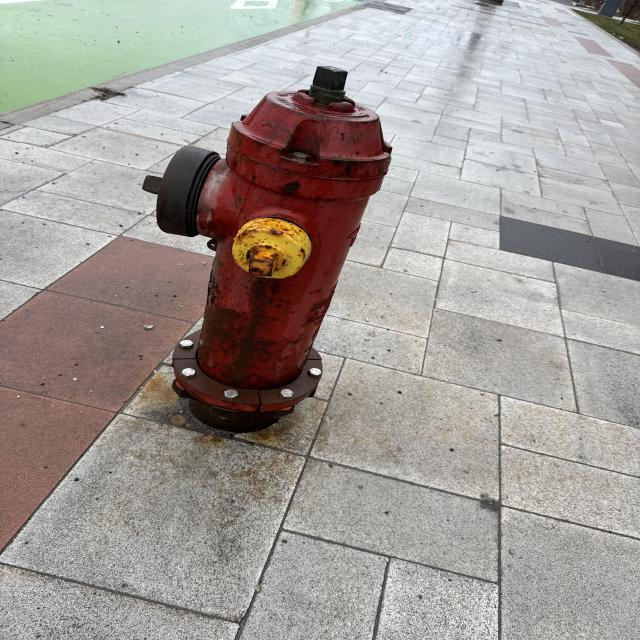Fire hydrant: (142, 65, 393, 433)
